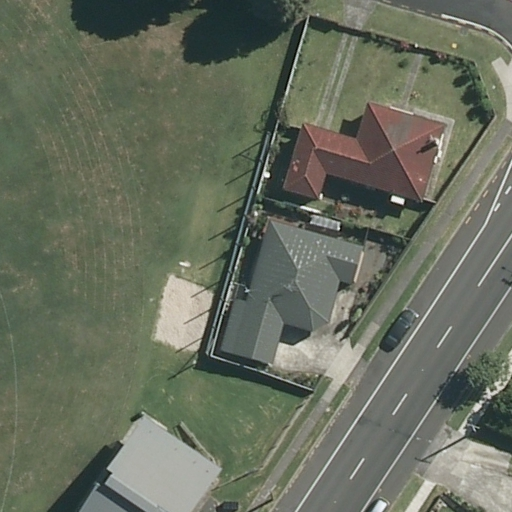DT: (460, 417, 482, 440)
